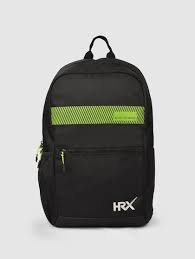backpack: (35, 35, 155, 227)
